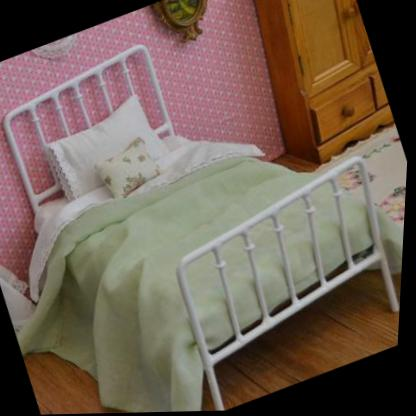Bed: (7, 46, 385, 414)
